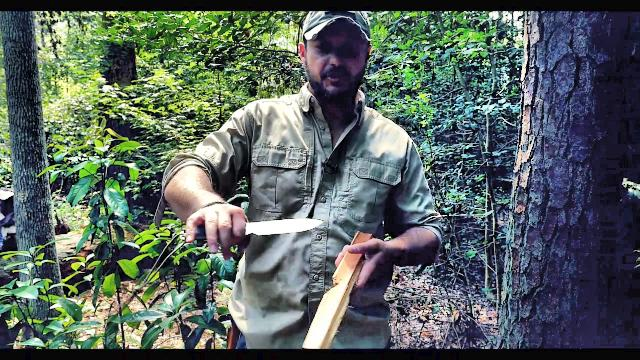knife: (209, 204, 331, 246)
